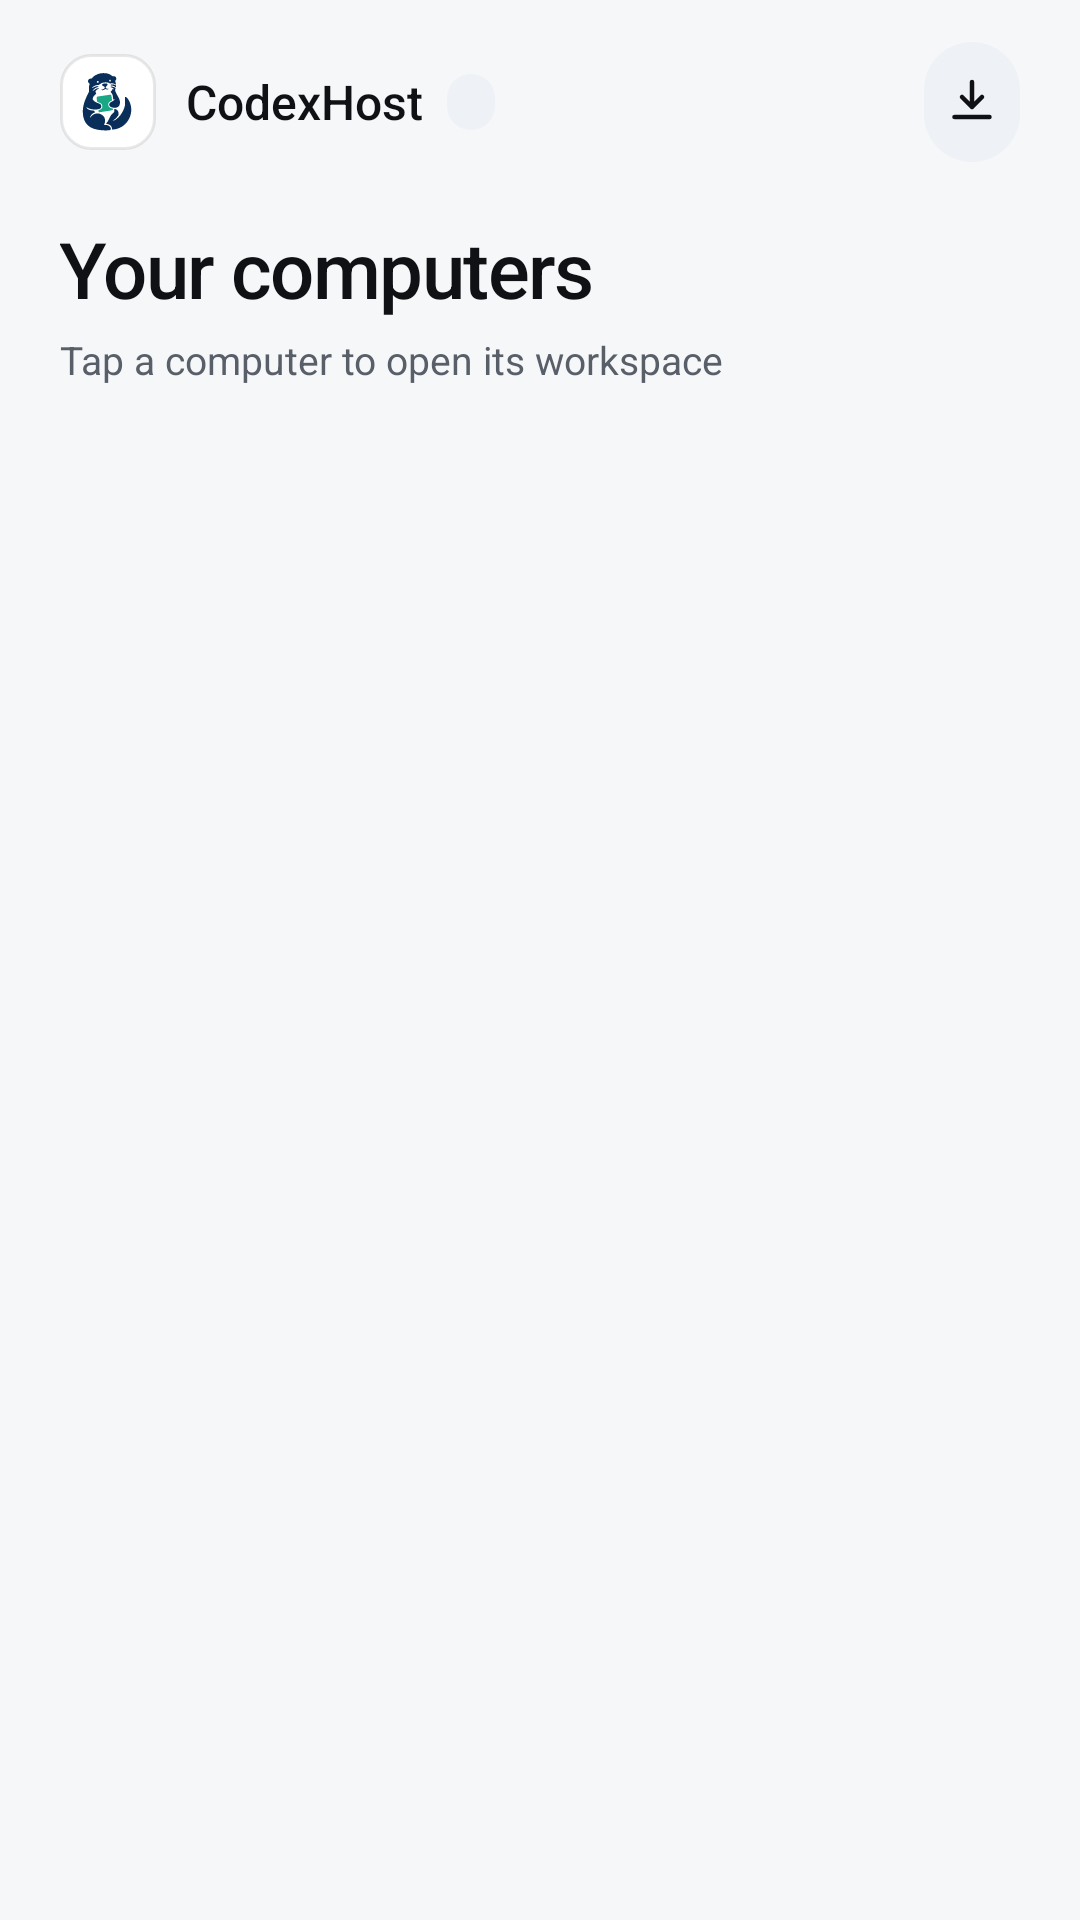

Named icons in this screenshot (1080*1920) and their bounding boxes, (x1, y1, x2, y2):
Check for updates: (952, 79, 992, 120)
